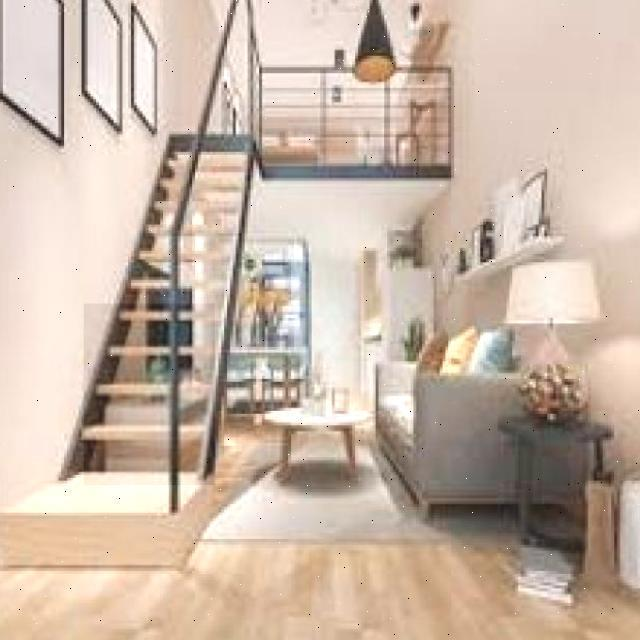stair: (84, 303, 215, 485)
